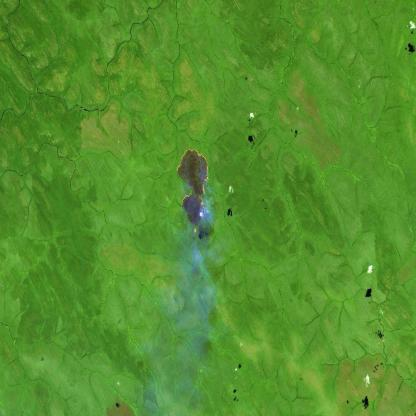fire: (174, 146, 212, 235)
